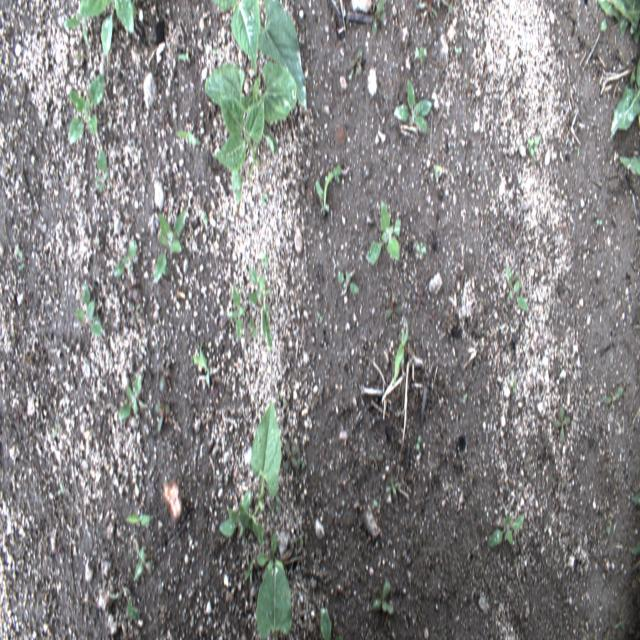crop: (205, 61, 296, 206), (214, 0, 306, 110), (240, 400, 283, 544), (610, 56, 640, 142), (256, 567, 291, 640), (596, 0, 639, 42), (619, 155, 640, 175)
weed: (64, 0, 135, 53), (154, 210, 186, 286), (68, 76, 105, 140), (366, 198, 400, 264), (393, 78, 432, 134), (249, 267, 272, 351), (219, 489, 251, 547), (75, 279, 102, 337), (315, 167, 342, 216), (487, 512, 524, 546), (257, 532, 285, 576), (393, 314, 409, 388), (118, 372, 142, 420), (506, 262, 528, 312), (110, 584, 140, 619), (91, 145, 109, 198), (192, 338, 210, 388), (230, 282, 244, 344), (114, 238, 136, 276), (133, 544, 152, 580), (373, 582, 394, 614), (554, 404, 570, 442), (154, 401, 170, 434), (385, 290, 402, 320), (372, 0, 386, 35), (283, 442, 299, 471), (338, 272, 360, 293), (157, 359, 170, 394), (526, 134, 539, 167), (418, 0, 438, 21), (175, 132, 201, 147), (320, 607, 332, 639), (126, 514, 152, 527), (350, 48, 362, 76), (129, 300, 141, 326), (604, 388, 623, 404), (413, 45, 428, 65), (442, 0, 461, 14), (245, 553, 253, 585), (247, 317, 258, 339), (415, 240, 427, 260), (433, 163, 443, 182), (629, 538, 640, 554), (510, 376, 518, 395), (261, 253, 269, 270), (630, 491, 640, 504), (391, 475, 396, 496), (416, 434, 421, 454), (261, 193, 268, 205), (462, 392, 468, 405), (318, 313, 323, 323)
